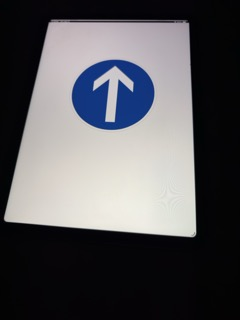GO FORWARD: (72, 59, 155, 130)
